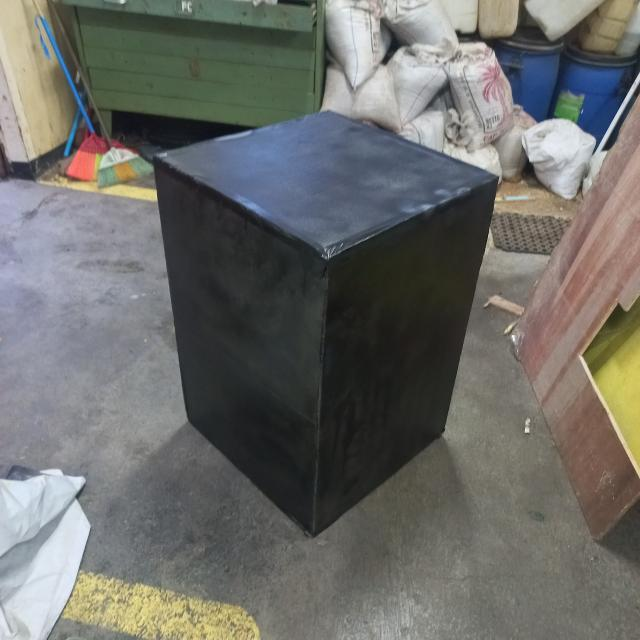obstacle: (153, 111, 499, 543)
